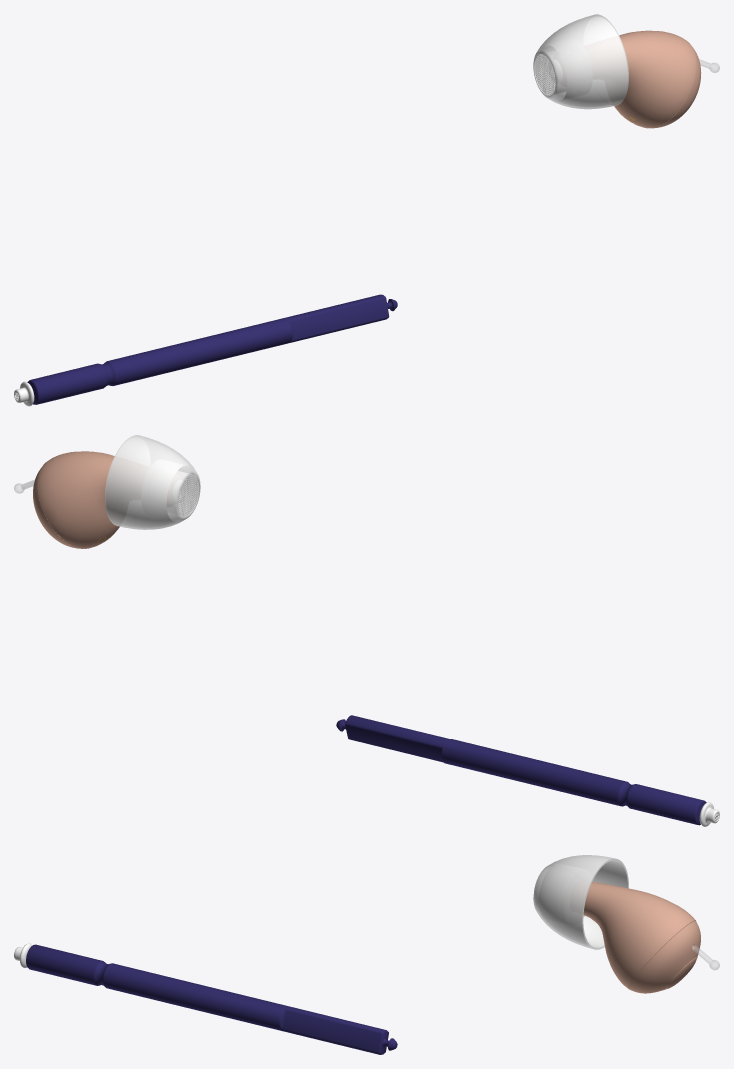
File: Atom 2 PRO(WaxGuardChange2).glb
The picture shows the model from 3 angles, top to bottom: view 1: azimuth 30°, elevation 25°; view 2: azimuth 150°, elevation 25°; view 3: azimuth 330°, elevation 25°; orthographic projection.
Visible parts, largest first — view 1: Stapici.001, Audien_ALL.022, Atom Pro 2_Body.007; view 2: Stapici.001, Audien_ALL.022, Atom Pro 2_Body.007; view 3: Stapici.001, Atom Pro 2_Body.007, Audien_ALL.022, Atom Pro 2_Lid.007.
Part boxes in pixels (<box>): Stapici.001: <box>27,294,397,404</box>; Audien_ALL.022: <box>533,14,628,109</box>; Atom Pro 2_Body.007: <box>614,30,696,128</box>; Stapici.001: <box>336,715,716,825</box>; Audien_ALL.022: <box>105,435,200,529</box>; Atom Pro 2_Body.007: <box>37,451,119,548</box>; Stapici.001: <box>26,944,397,1054</box>; Atom Pro 2_Body.007: <box>583,882,695,988</box>; Audien_ALL.022: <box>533,855,628,949</box>; Atom Pro 2_Lid.007: <box>628,921,700,993</box>.
Size of the model in its own units: 4.17 by 1.4 by 0.4821.
